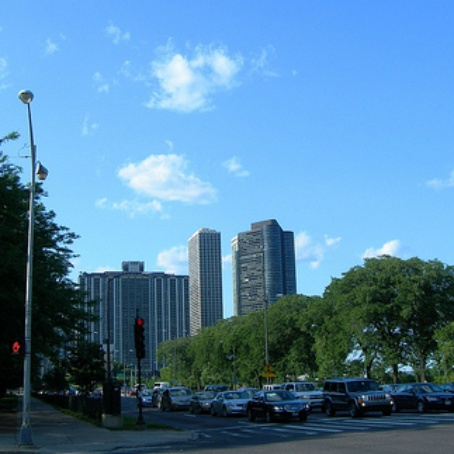building: (82, 266, 194, 381), (230, 217, 299, 324), (187, 221, 223, 344)
car: (321, 376, 397, 418), (246, 388, 307, 422), (205, 389, 247, 413), (159, 386, 192, 413)
crosswalk: (205, 410, 453, 446)
light pole: (6, 88, 50, 454)
sky: (1, 1, 445, 254)
vegetation: (170, 267, 454, 381)
